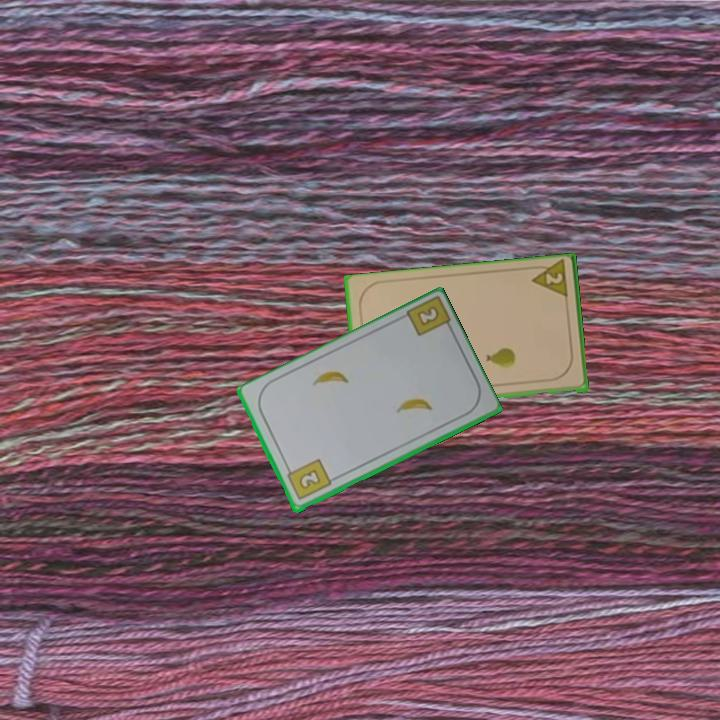2b: (283, 456, 334, 503), (416, 305, 440, 326)
2p: (527, 259, 571, 303)
